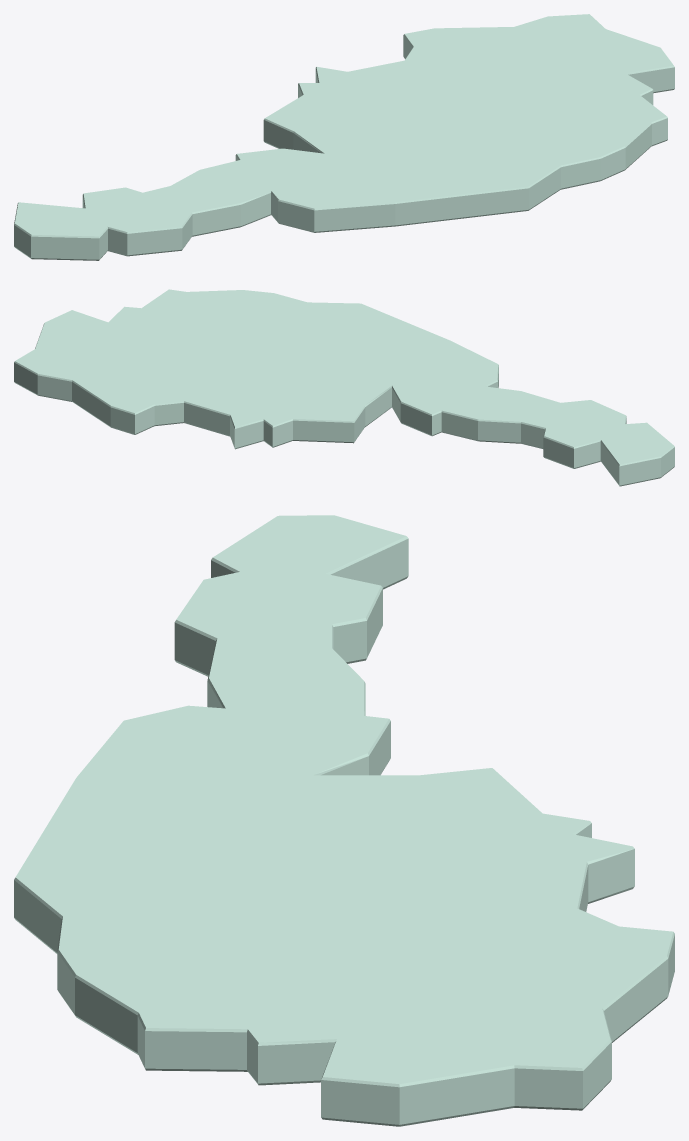
Rendered from AUT.glb.
The picture shows the model from 3 angles, top to bottom: view 1: azimuth 30°, elevation 25°; view 2: azimuth 150°, elevation 25°; view 3: azimuth 270°, elevation 25°; orthographic projection. The views are drawn at different scales.
Bounding box in the file's own units: 1.95 × 0.068 × 0.9555.
